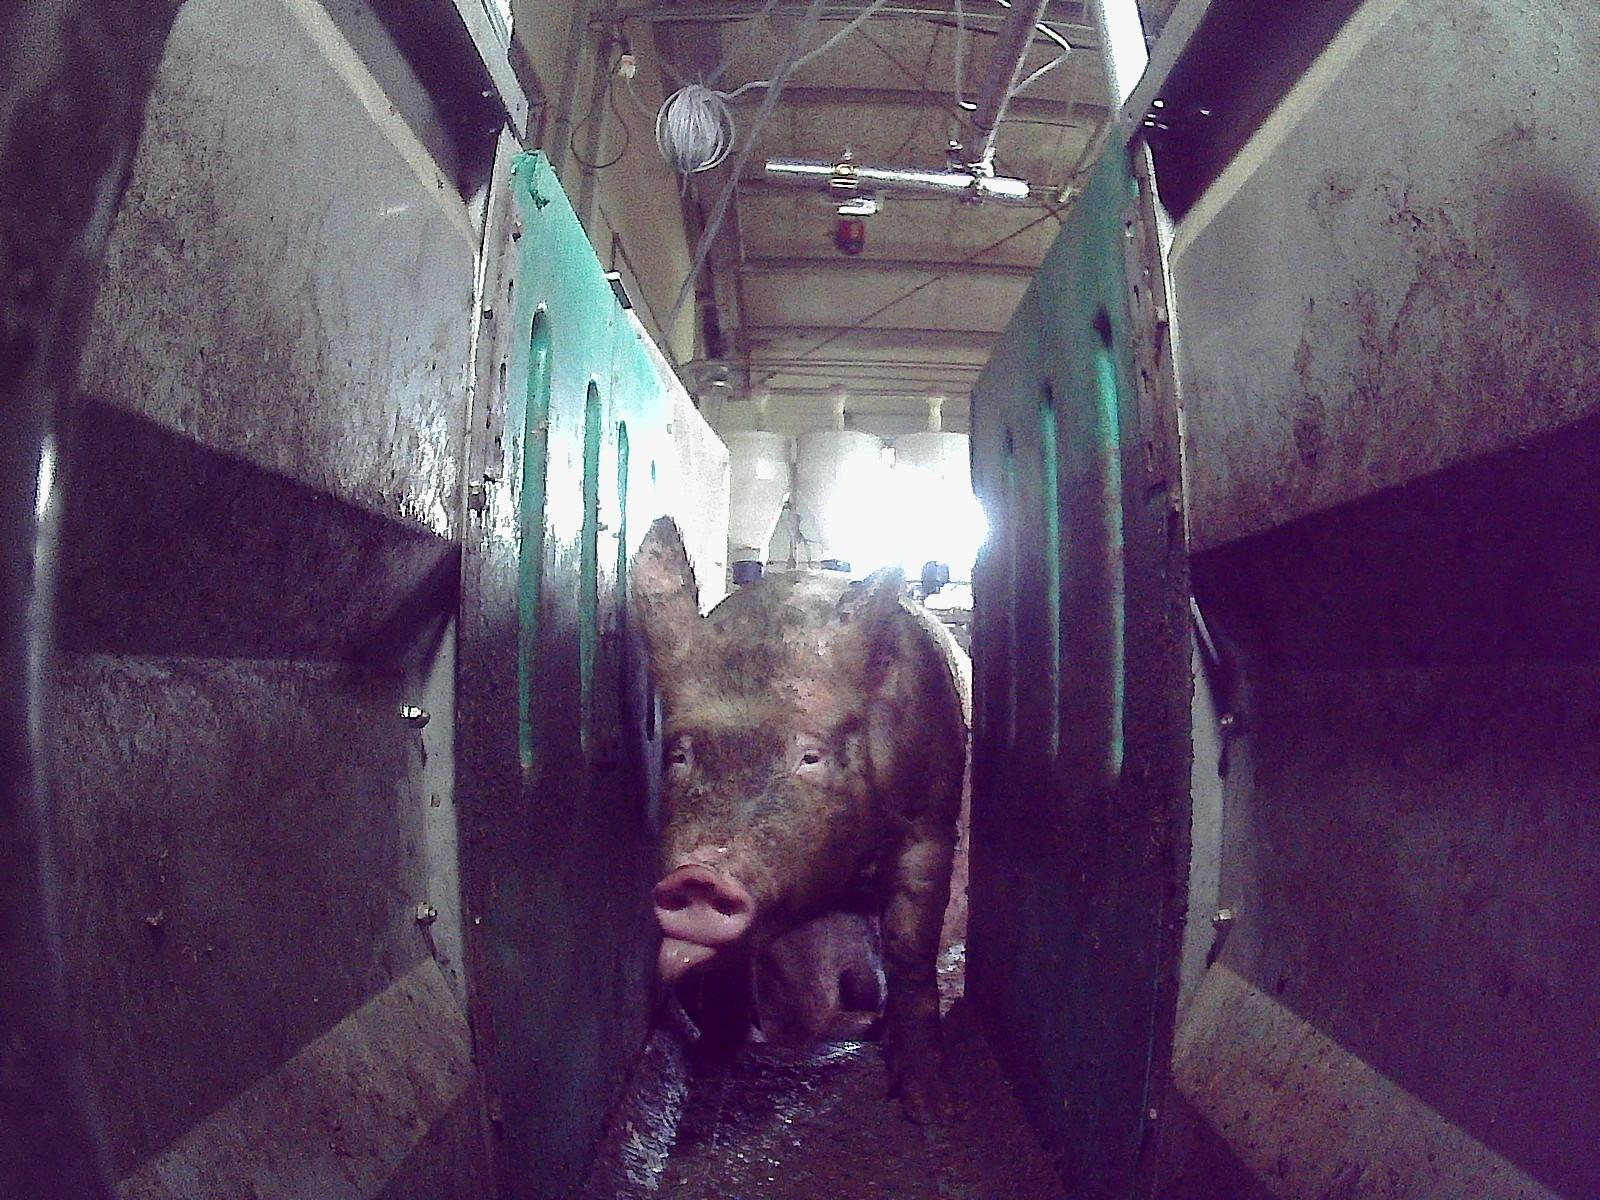Face: (644, 588, 883, 981)
